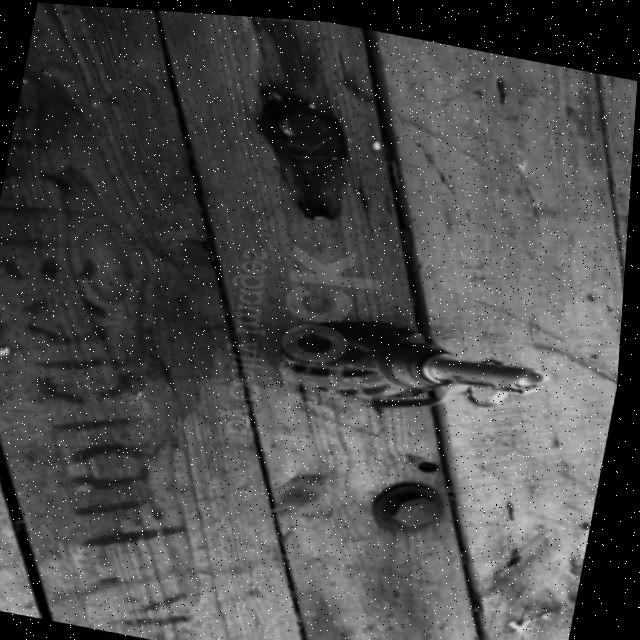grenade: (265, 279, 564, 443)
